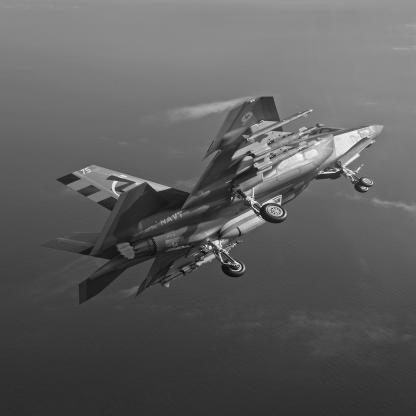F35: (42, 97, 385, 306)
